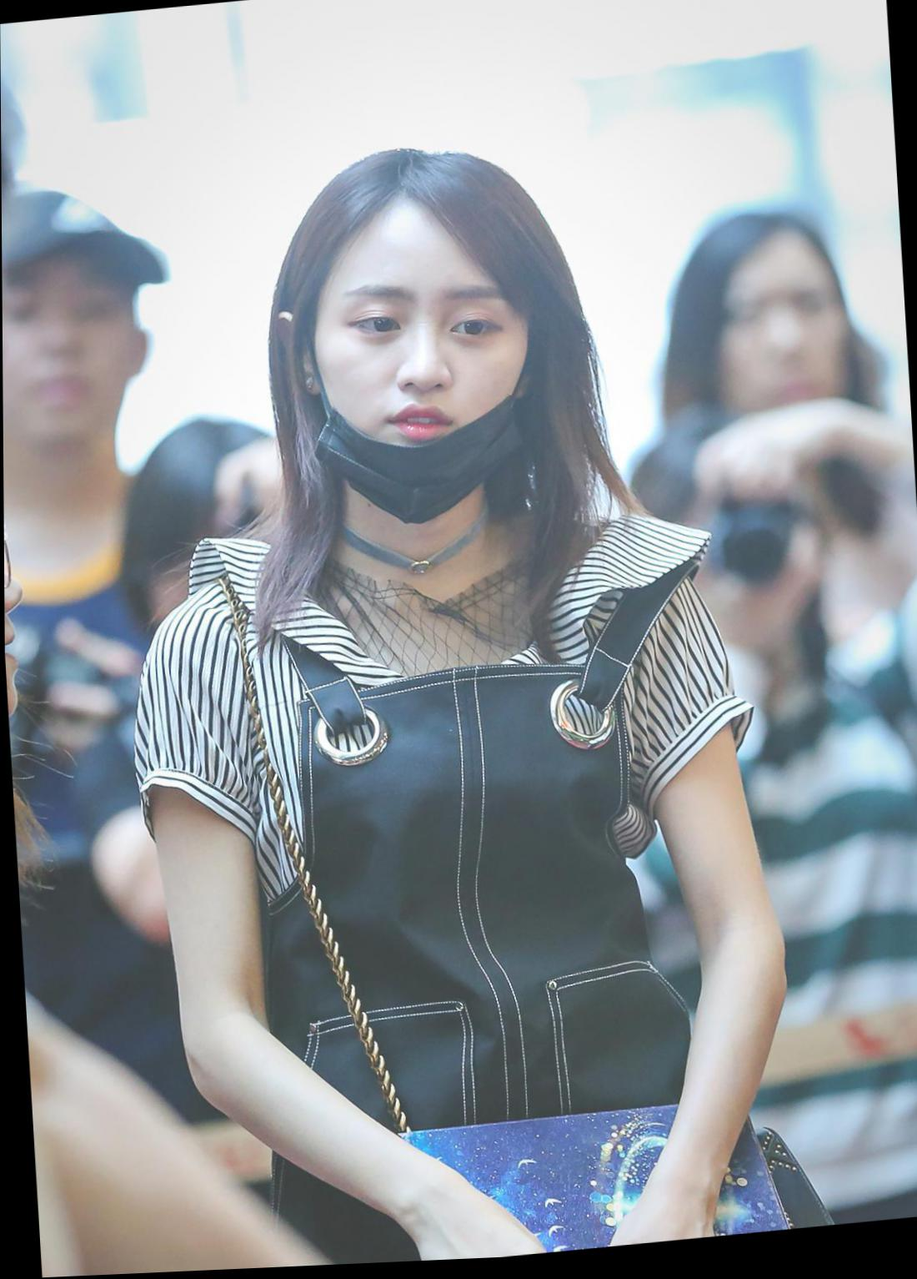NONE: (3, 266, 135, 442), (716, 285, 859, 441)
WRONG: (298, 264, 544, 517)
